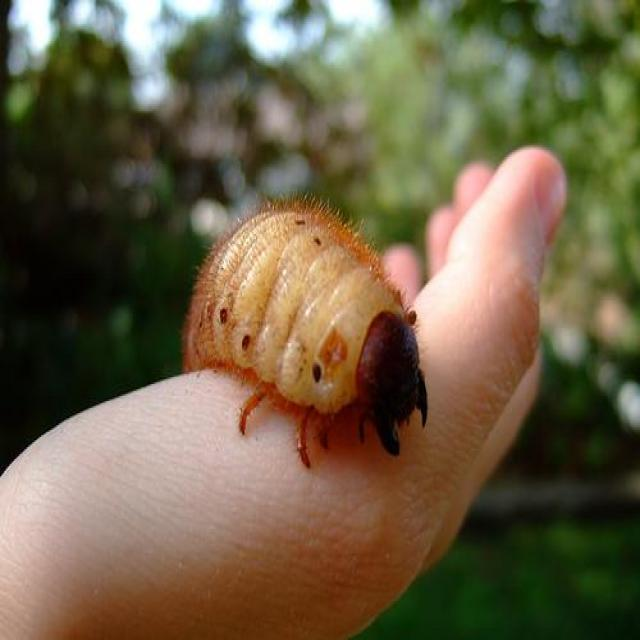Grub-Adult-: (168, 180, 472, 459)
